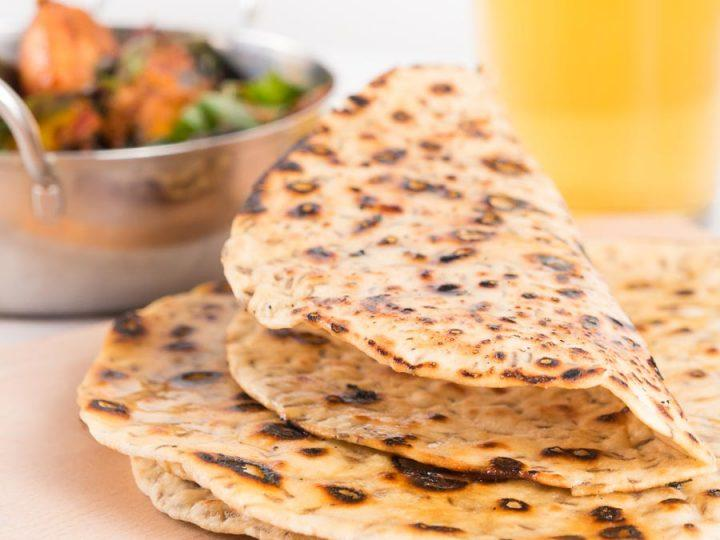chapati: (222, 66, 714, 494)
